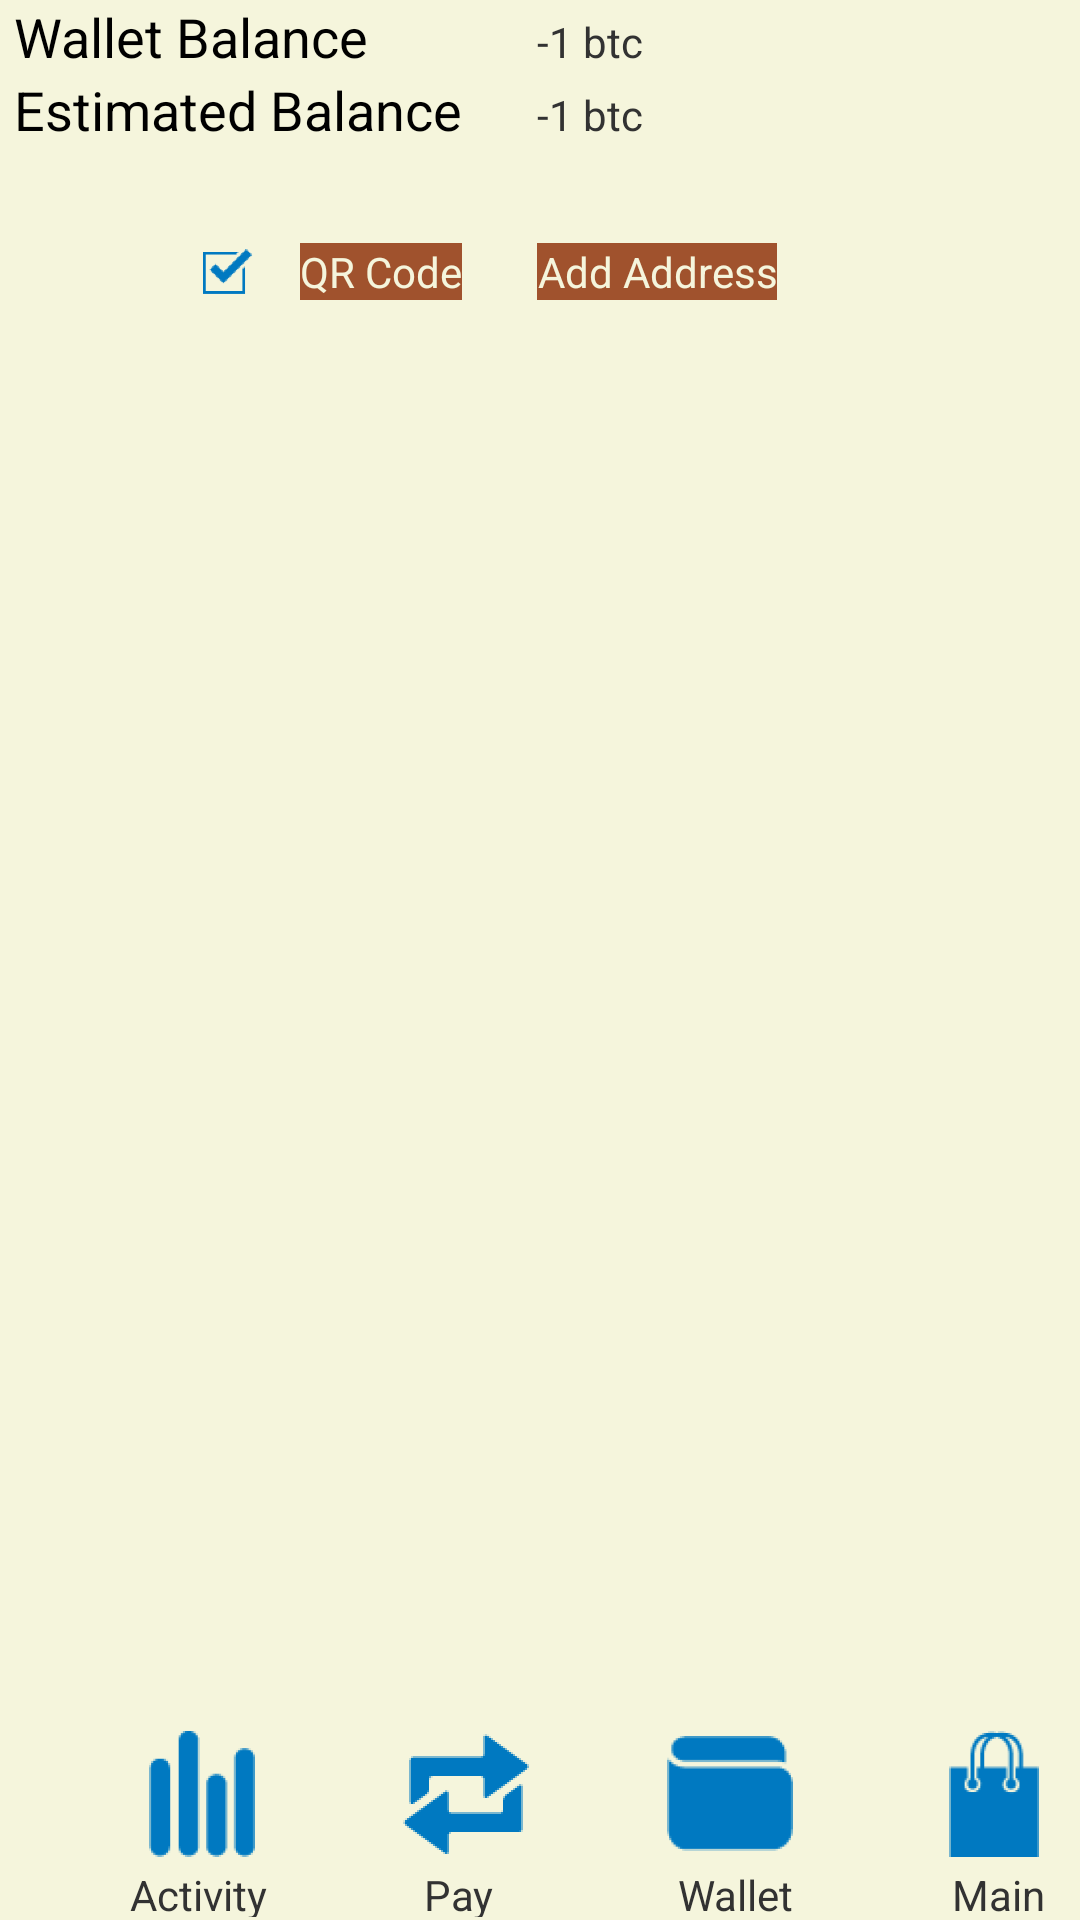

Icon click points for this 1080 x 1920 phone screenshot, format (x=x, y=y):
transfer: (x=466, y=1794)
